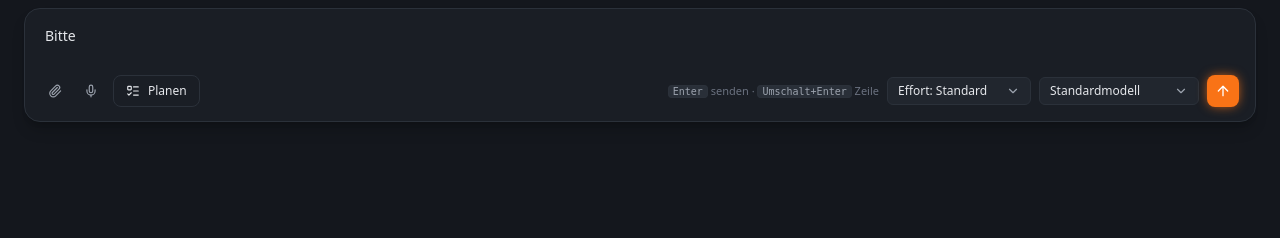
Test: dictation › live text › discards a switched-on dictation from its bar
Click the button named "Diktieren" at (91, 91), box [77,77,105,105]
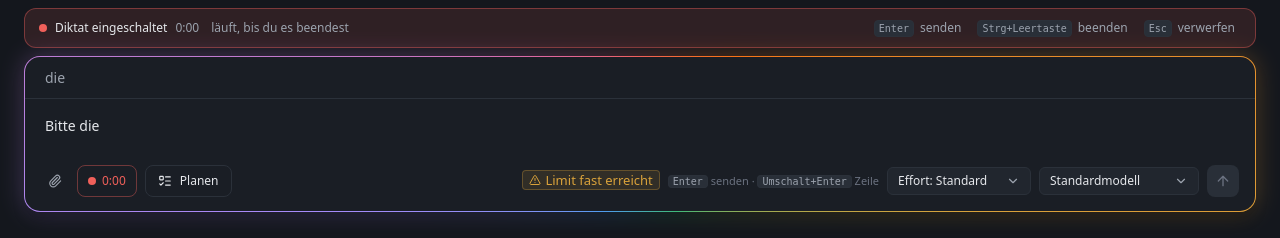
Result: the button named "Aufnahme beenden" is shown at [77,165,137,197]
Click the button "Esc verwerfen" at (1189, 28), box [1138,17,1241,39]
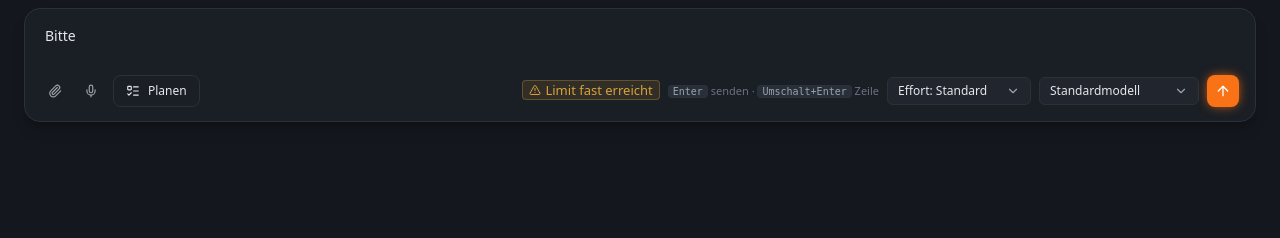
Result: the text "Diktat eingeschaltet" is gone
